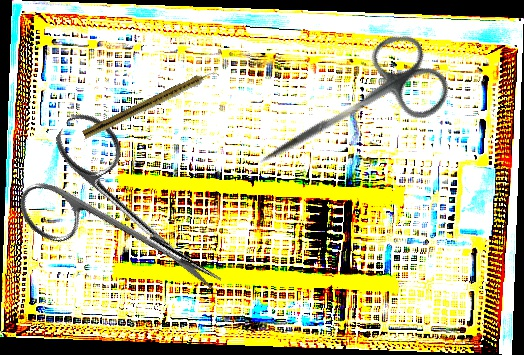Handpiece: (81, 66, 221, 142)
Iris Scissors: (4, 105, 257, 335), (238, 22, 458, 204)
